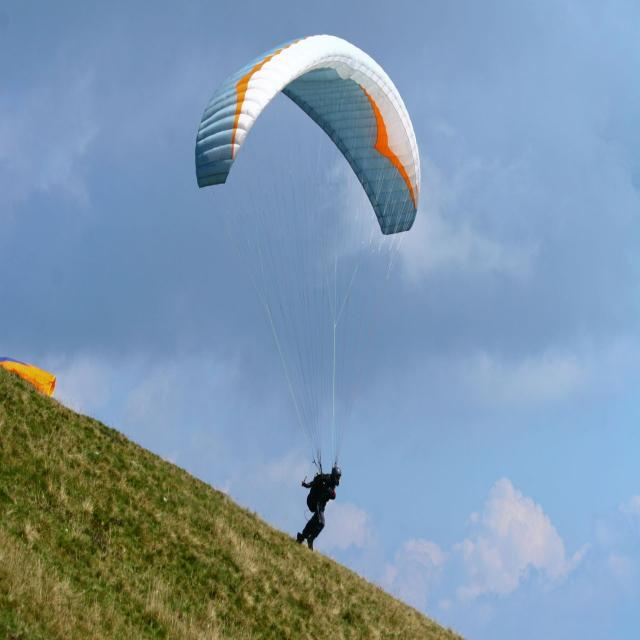paraglider: (188, 32, 438, 251)
